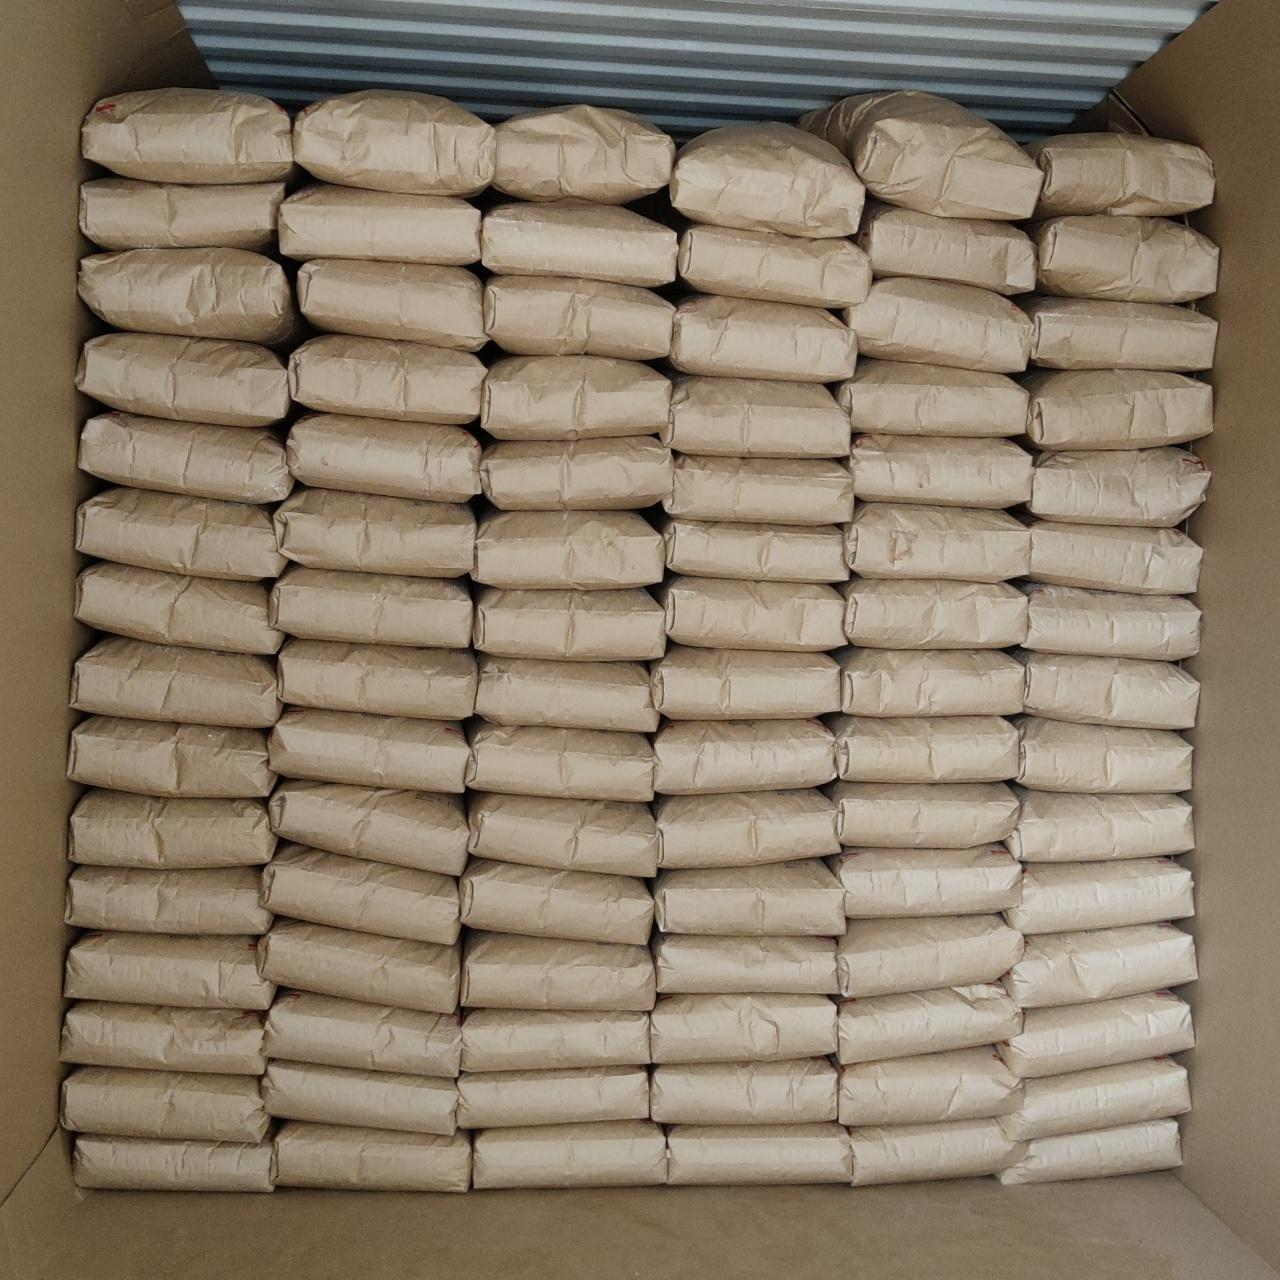sack: (800, 92, 1038, 218), (670, 122, 862, 236), (80, 248, 302, 346), (294, 90, 494, 194), (82, 90, 294, 182), (262, 844, 460, 942), (78, 332, 290, 422), (80, 412, 290, 502), (76, 562, 280, 654), (270, 780, 468, 874), (72, 636, 278, 726), (260, 920, 460, 1012), (78, 488, 284, 576), (492, 106, 672, 202), (276, 488, 476, 574), (844, 280, 1030, 372), (298, 260, 484, 350), (290, 336, 484, 422), (266, 990, 460, 1076), (288, 414, 478, 500), (1000, 992, 1190, 1078), (70, 716, 274, 796), (482, 202, 676, 286), (858, 202, 1034, 294), (270, 708, 466, 790), (680, 224, 870, 308), (272, 566, 470, 646), (670, 296, 854, 382), (1032, 216, 1216, 302), (460, 860, 652, 942), (280, 638, 476, 718), (1006, 924, 1196, 1006), (1022, 132, 1212, 214), (64, 1066, 268, 1142), (280, 184, 478, 262), (482, 356, 670, 438), (468, 794, 656, 876), (1000, 1058, 1188, 1140), (484, 276, 672, 358), (66, 932, 274, 1006), (838, 916, 1022, 996), (72, 790, 276, 862), (80, 178, 284, 250), (662, 376, 850, 454), (62, 1002, 264, 1074), (836, 360, 1026, 436), (1022, 370, 1212, 446), (466, 722, 654, 798), (462, 932, 654, 1006), (652, 860, 844, 934), (264, 1060, 456, 1134), (476, 512, 662, 588), (1026, 448, 1206, 526), (654, 790, 838, 866), (844, 504, 1028, 580), (656, 576, 844, 650), (482, 436, 670, 510), (66, 866, 270, 934), (838, 986, 1020, 1062), (1022, 298, 1214, 370), (830, 844, 1020, 916), (840, 1048, 1020, 1124), (1006, 858, 1190, 932), (474, 588, 662, 660), (1020, 584, 1198, 660), (476, 656, 658, 730), (1018, 652, 1198, 726), (652, 646, 836, 718), (276, 1122, 470, 1190), (848, 434, 1030, 506), (1006, 790, 1190, 860), (1016, 716, 1190, 790), (664, 454, 852, 522), (654, 720, 834, 790), (836, 648, 1022, 714), (842, 578, 1022, 646), (474, 1122, 664, 1186), (652, 996, 836, 1062), (828, 782, 1016, 846), (828, 716, 1014, 780), (660, 518, 846, 582), (1028, 520, 1198, 590), (652, 1058, 836, 1122), (998, 1120, 1182, 1182), (462, 1010, 648, 1070), (76, 1134, 274, 1190), (458, 1068, 646, 1126), (850, 1120, 1022, 1182), (666, 1124, 848, 1182), (654, 934, 836, 990)
